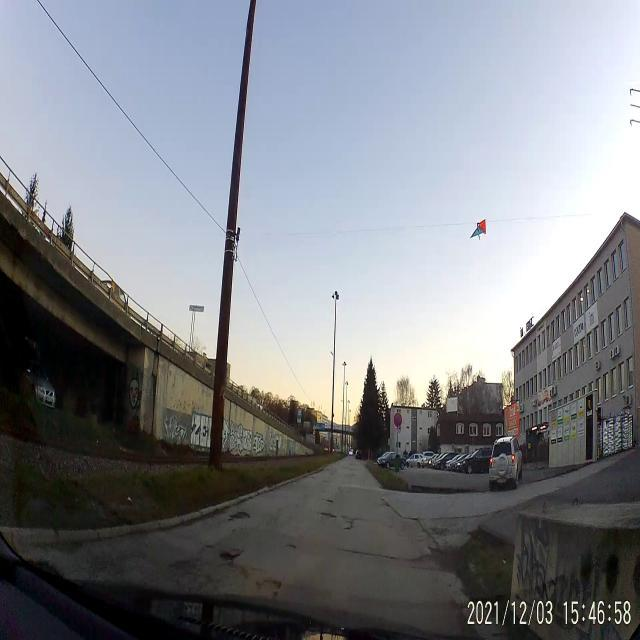Pothole: (218, 548, 247, 568), (340, 515, 358, 537), (227, 508, 251, 524), (284, 542, 300, 554), (320, 507, 335, 519), (320, 496, 340, 504)
